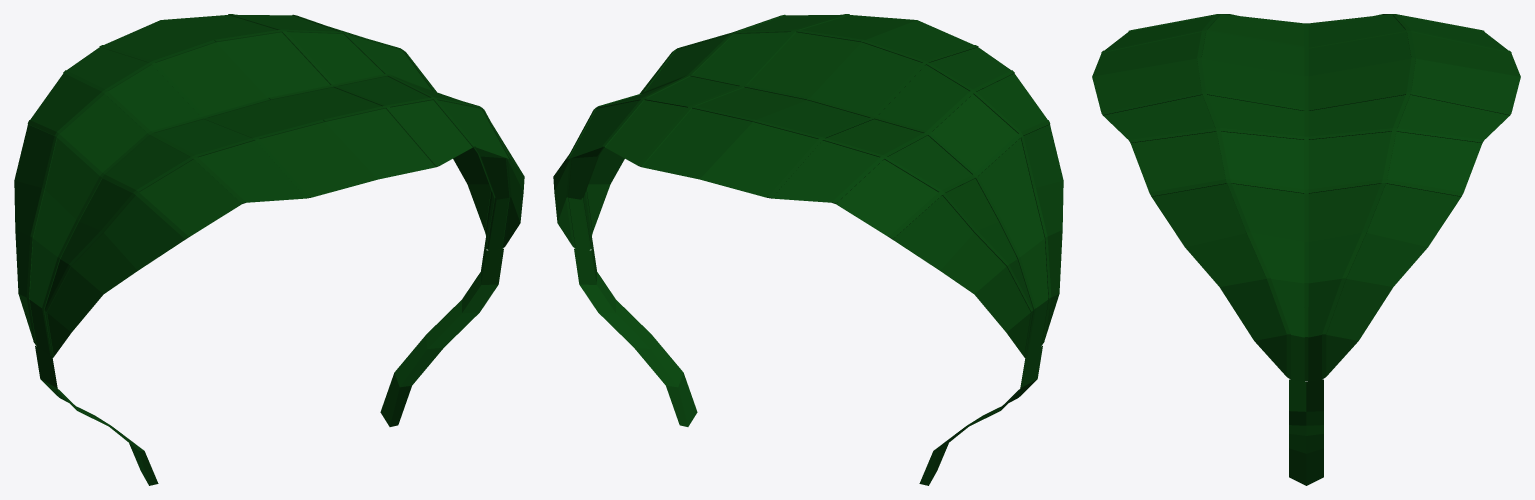
File: Leaf Parachute.fbx
3 renders of one model, left to right at view 1: azimuth 30°, elevation 25°; view 2: azimuth 150°, elevation 25°; view 3: azimuth 270°, elevation 25°, orthographic.
Parts seen in each view (by area): view 1: Leaf, Lines, Stem; view 2: Leaf, Lines, Stem; view 3: Leaf, Lines, Stem.
Part boxes in pixels (x1,y1,x2,y2): Leaf: (14, 14, 524, 357); Lines: (26, 14, 511, 357); Stem: (35, 237, 503, 485); Leaf: (553, 14, 1063, 357); Lines: (566, 14, 1051, 357); Stem: (574, 237, 1042, 485); Leaf: (1092, 14, 1520, 381); Lines: (1102, 14, 1510, 380); Stem: (1289, 379, 1323, 485).
Size of the model in its own units: 120 by 92.71 by 97.36.
